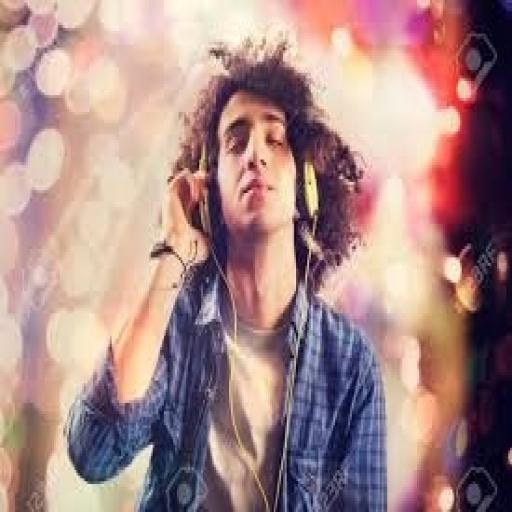listening_to_music: (63, 34, 391, 509)
